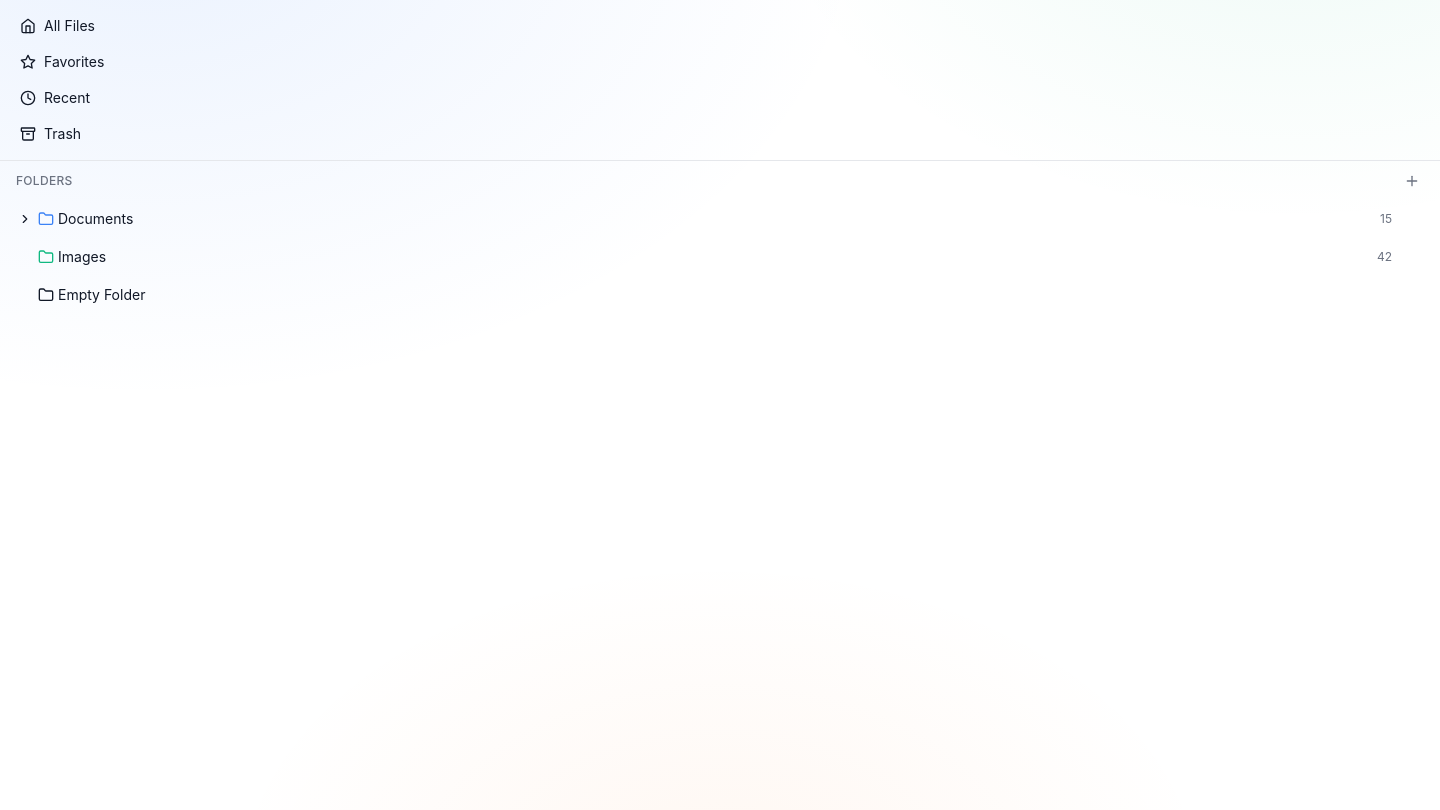
Scenario: FolderTree › folder expansion › supports deep nesting
This screenshot has width=1440, height=810.
// Expand Documents
What coordinates should you click on to do the following:
click the 6th button
I would click on:
 (25, 219)
Its box is [16, 210, 34, 228].
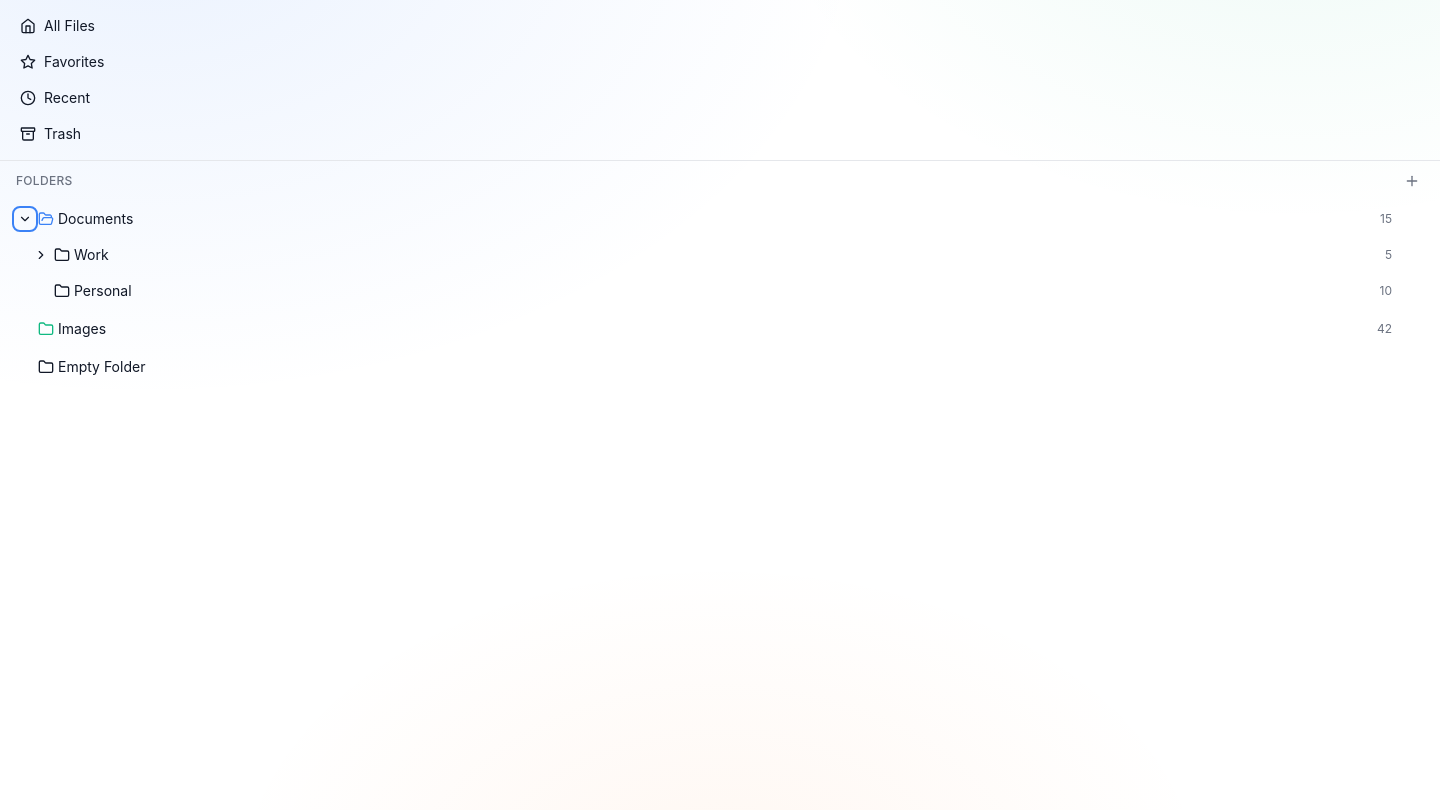
// Expand Work
What coordinates should you click on to do the following:
click the button without text next to "Work"
I would click on:
 (41, 255)
Its box is [32, 246, 50, 264].
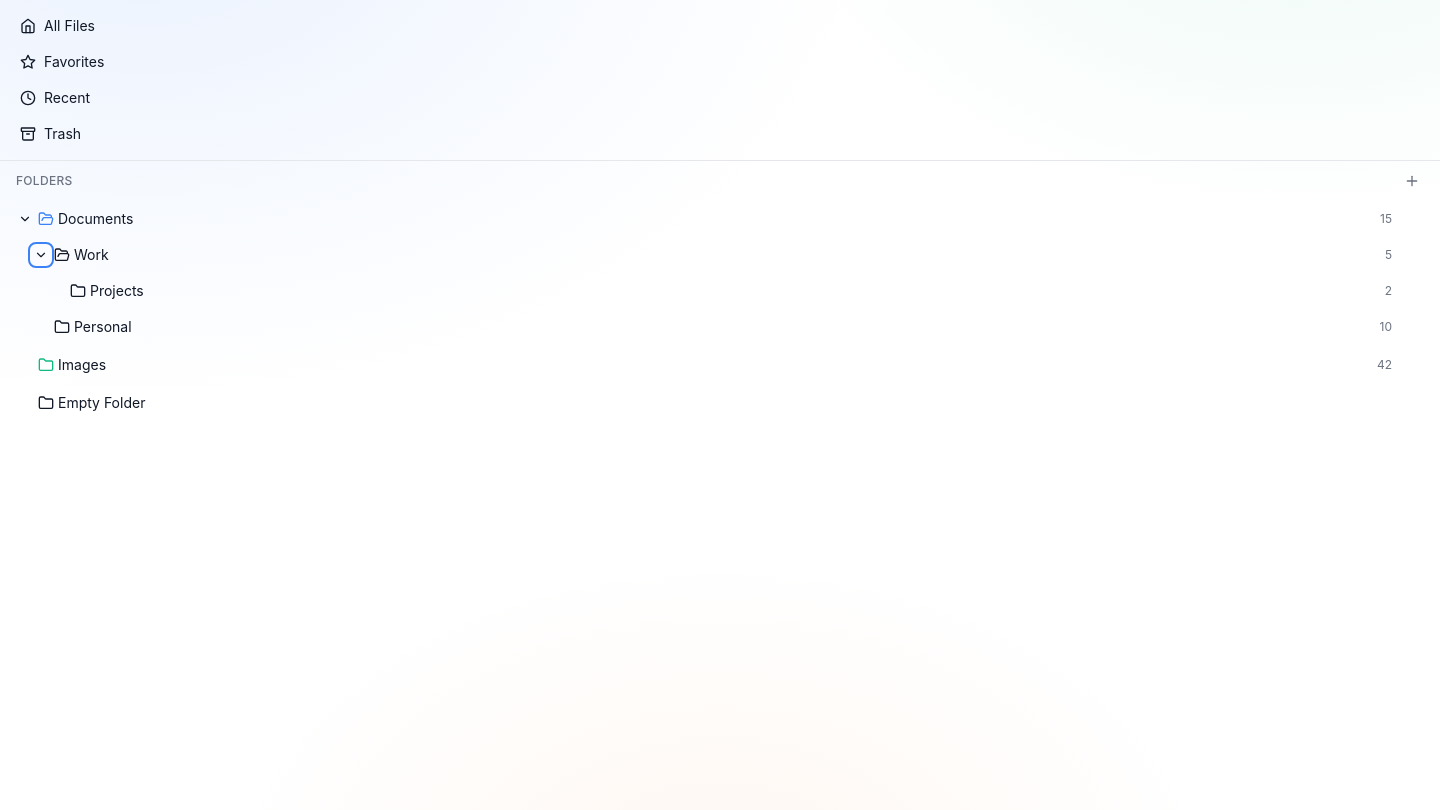
Result: the text "Projects" is shown at [90, 282, 144, 299]
